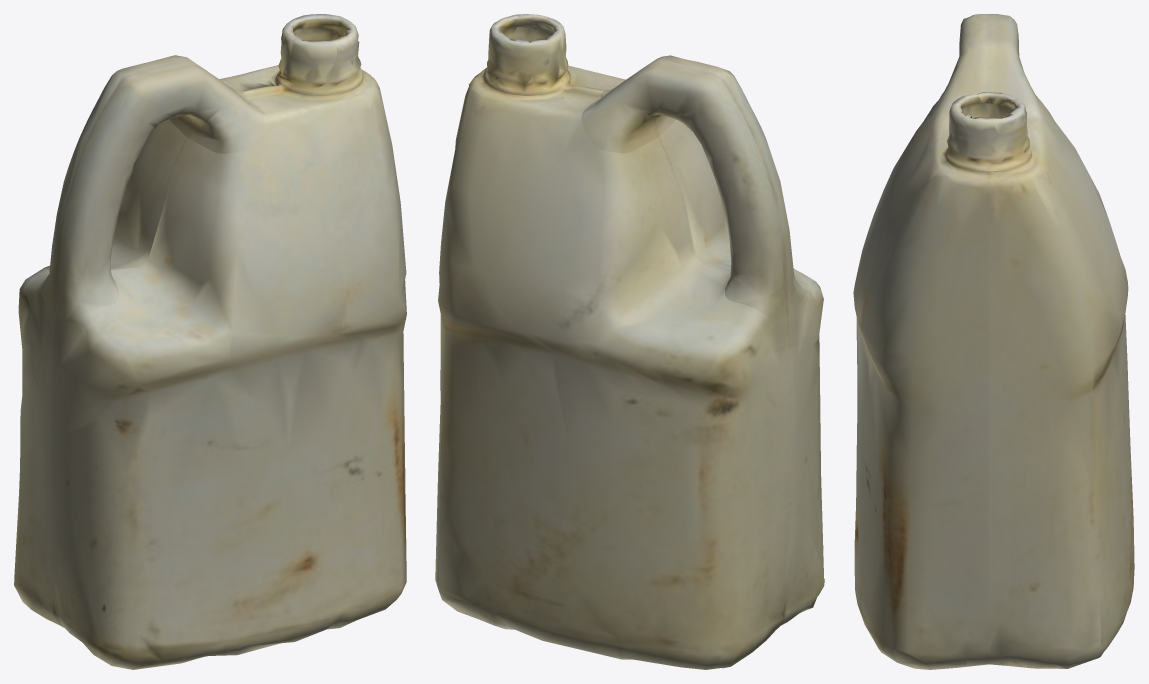
File: WaterBottleGallon.obj
3 renders of one model, left to right at view 1: azimuth 30°, elevation 25°; view 2: azimuth 150°, elevation 25°; view 3: azimuth 270°, elevation 25°, orthographic.
Visible parts, largest first — view 1: Bottle; view 2: Bottle; view 3: Bottle.
Boxes of the visible parts, <box> form: Bottle: <box>14,14,406,669</box>; Bottle: <box>435,14,824,669</box>; Bottle: <box>853,14,1134,669</box>.
Bounding box in the file's own units: 0.1662 × 0.2745 × 0.1264.
1 material, 1 textured.
